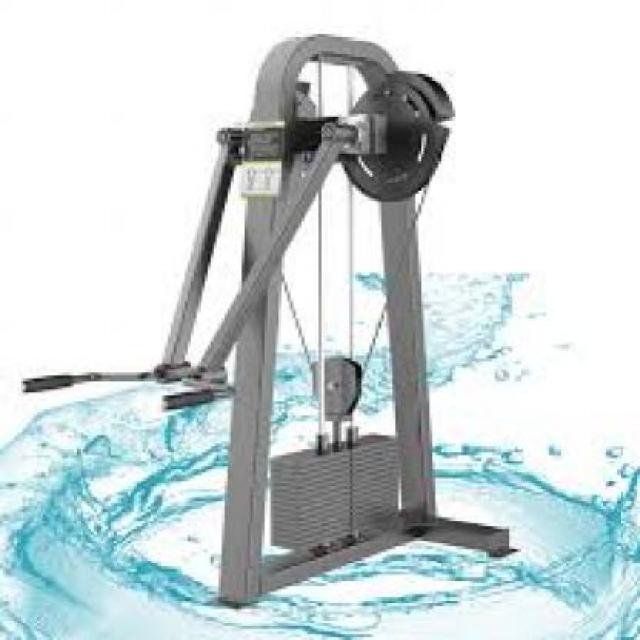lateral raises machine: (15, 32, 523, 605)
